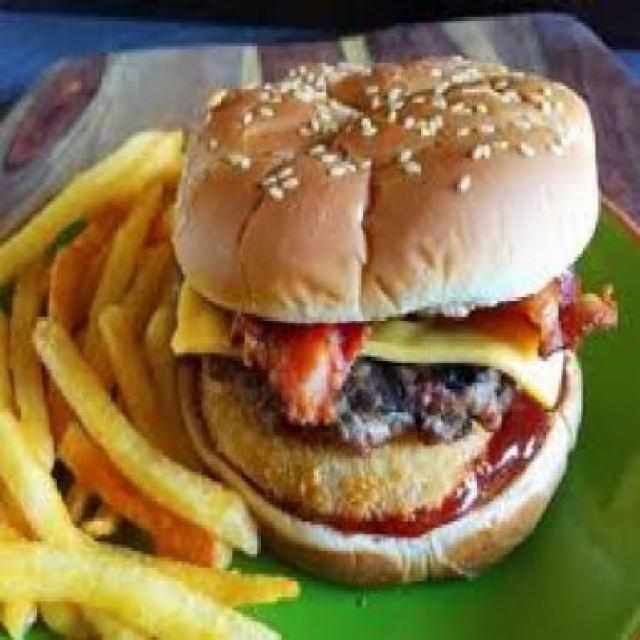hamburger: (176, 46, 618, 585)
